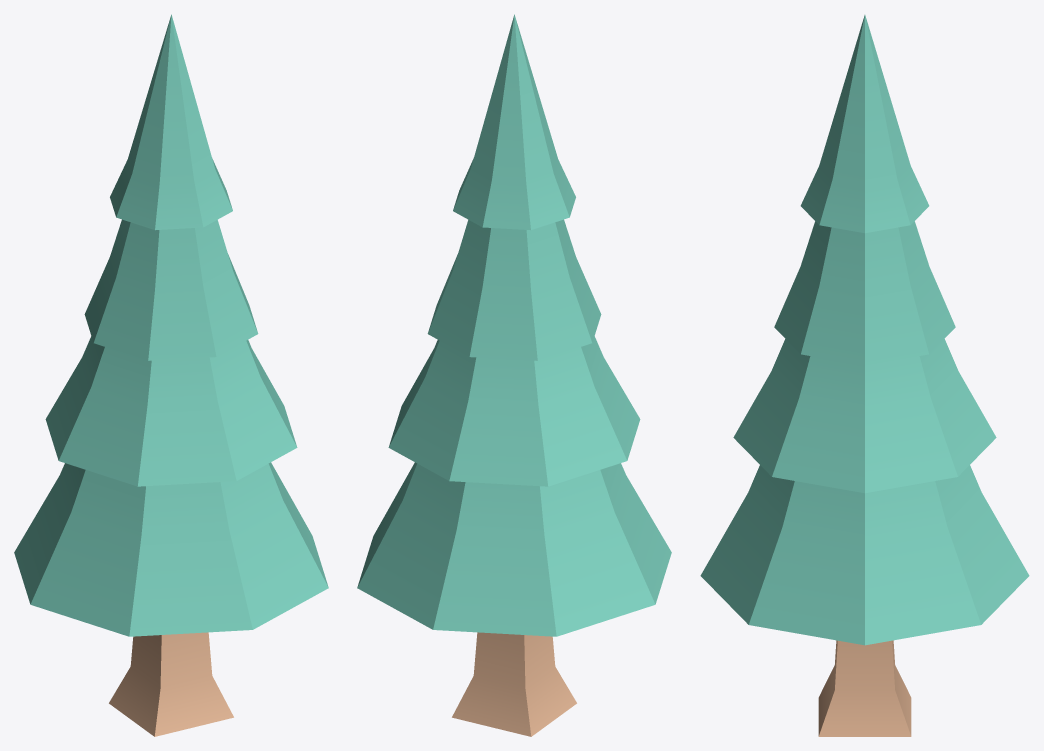
3 views of the same model, side by side, from view 1: azimuth 30°, elevation 25°; view 2: azimuth 150°, elevation 25°; view 3: azimuth 270°, elevation 25° (orthographic).
Parts seen in each view (by area): view 1: Mesh tree_0, Mesh tree_1; view 2: Mesh tree_0, Mesh tree_1; view 3: Mesh tree_0, Mesh tree_1.
Boxes of the visible parts, x1=… form: Mesh tree_0: x1=14, y1=14, x2=328, y2=636; Mesh tree_1: x1=109, y1=632, x2=233, y2=736; Mesh tree_0: x1=357, y1=14, x2=671, y2=636; Mesh tree_1: x1=452, y1=632, x2=576, y2=736; Mesh tree_0: x1=700, y1=15, x2=1029, y2=645; Mesh tree_1: x1=818, y1=640, x2=911, y2=736.
Bounding box in the file's own units: 1.02 × 2.41 × 1.02.
